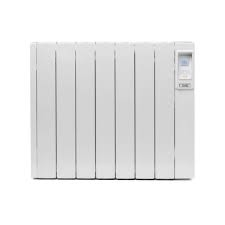Radiator: (28, 41, 196, 182)
